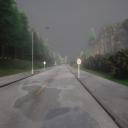speed_limit_90: (77, 58, 81, 64)
